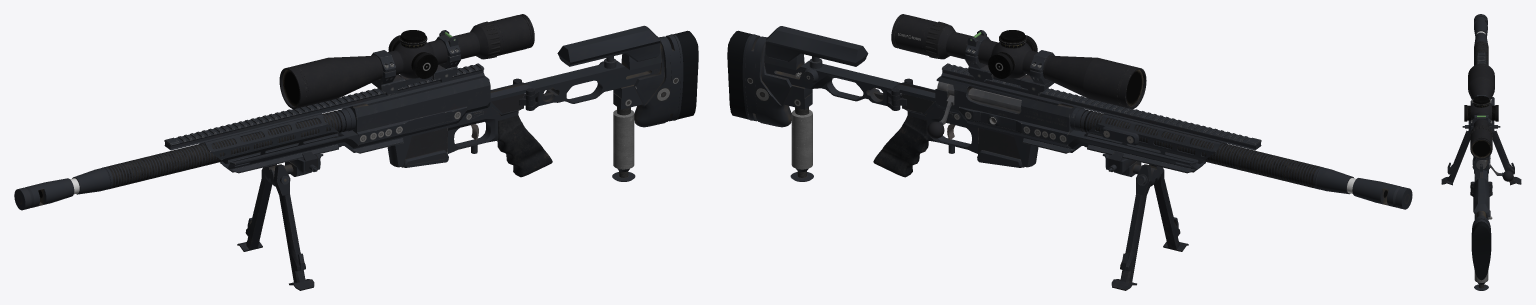
File: pgm_ultima_ratio__game-ready_sniper_rifle.glb
3 renders of one model, left to right at view 1: azimuth 30°, elevation 25°; view 2: azimuth 150°, elevation 25°; view 3: azimuth 270°, elevation 25°, orthographic. The views are drawn at different scales.
Visible parts, largest first — view 1: 03_BackParts_low_4k.004, 02_MainBody_low_4k.004, 05_Scope_low_4K.004, 01_GripMagazine_low_4k.004, 04_Barrel_Grid_low_4k.008, 06_SmallParts_low_2k.008; view 2: 02_MainBody_low_4k.004, 03_BackParts_low_4k.004, 05_Scope_low_4K.004, 01_GripMagazine_low_4k.004, 04_Barrel_Grid_low_4k.008, 06_SmallParts_low_2k.008; view 3: 05_Scope_low_4K.004, 03_BackParts_low_4k.004, 01_GripMagazine_low_4k.004, 04_Barrel_Grid_low_4k.008, 02_MainBody_low_4k.004, 06_SmallParts_low_2k.008.
Part boxes in pixels (bbox=[...]): 03_BackParts_low_4k.004: bbox=[525, 25, 698, 181]; 02_MainBody_low_4k.004: bbox=[164, 65, 490, 169]; 05_Scope_low_4K.004: bbox=[279, 14, 534, 108]; 01_GripMagazine_low_4k.004: bbox=[221, 82, 552, 290]; 04_Barrel_Grid_low_4k.008: bbox=[14, 107, 355, 210]; 06_SmallParts_low_2k.008: bbox=[164, 21, 616, 184]; 02_MainBody_low_4k.004: bbox=[927, 65, 1261, 169]; 03_BackParts_low_4k.004: bbox=[727, 26, 900, 181]; 05_Scope_low_4K.004: bbox=[891, 14, 1146, 108]; 01_GripMagazine_low_4k.004: bbox=[873, 82, 1204, 290]; 04_Barrel_Grid_low_4k.008: bbox=[1070, 107, 1412, 209]; 06_SmallParts_low_2k.008: bbox=[795, 21, 1261, 185]; 05_Scope_low_4K.004: bbox=[1464, 63, 1498, 159]; 03_BackParts_low_4k.004: bbox=[1471, 178, 1491, 290]; 01_GripMagazine_low_4k.004: bbox=[1441, 120, 1521, 185]; 04_Barrel_Grid_low_4k.008: bbox=[1474, 14, 1488, 65]; 02_MainBody_low_4k.004: bbox=[1472, 56, 1513, 181]; 06_SmallParts_low_2k.008: bbox=[1462, 52, 1503, 219].
Size of the model in its own units: 4.98 by 1.4 by 0.8062.
Materials: 6 (6 with a texture image).
